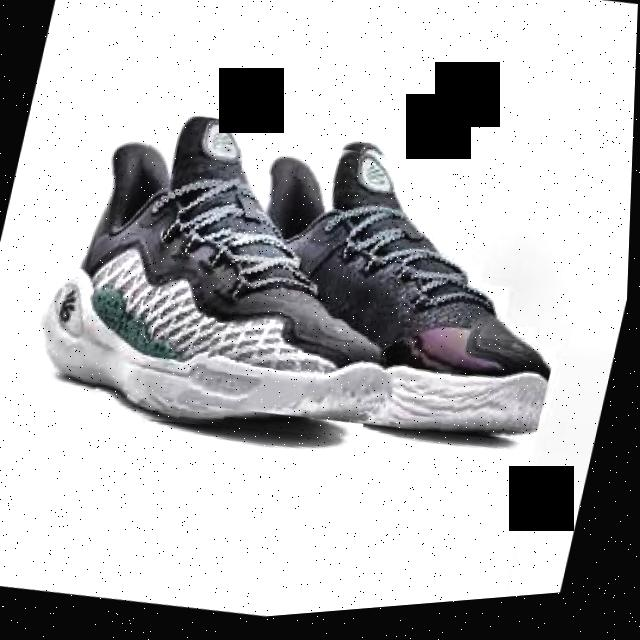shoe: (23, 85, 431, 474), (188, 119, 599, 476)
